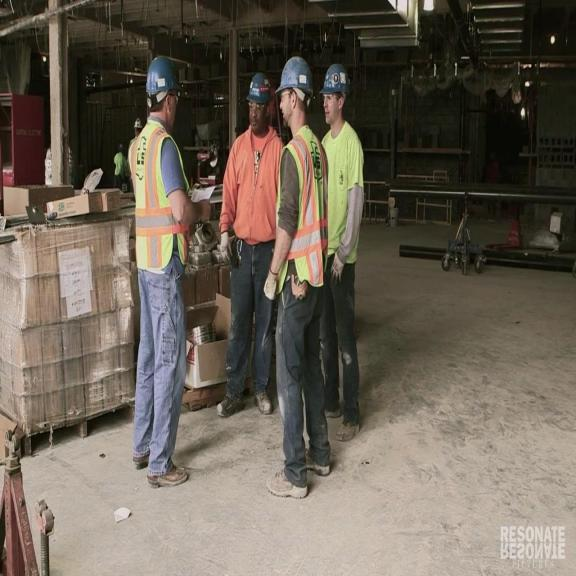safety_vest: (127, 120, 187, 272), (276, 124, 323, 294)
